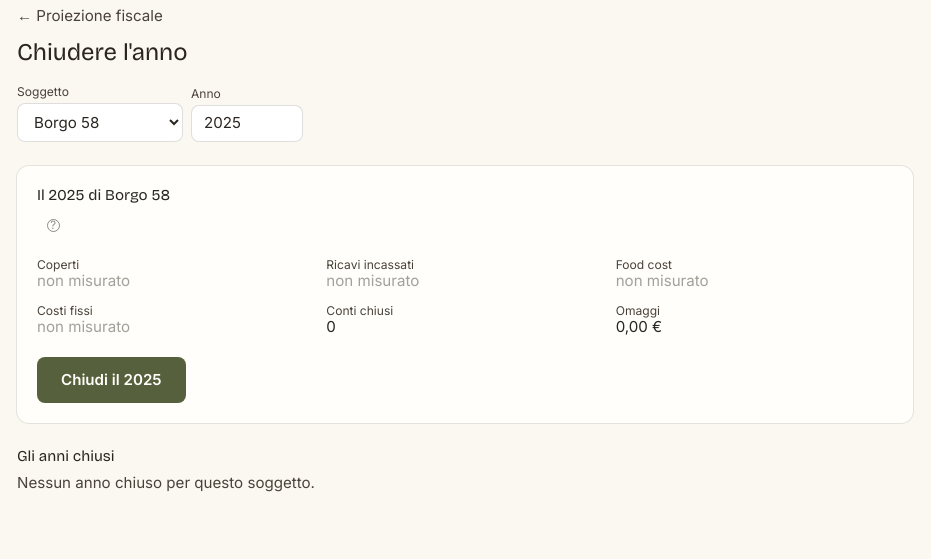
it: il rifiuto del database si vede › ⚠️ e non sparisce dietro un successo finto
This screenshot has width=931, height=559.
Expected: the element showing "non misurato" below "Ricavi incassati" is shown, [326,271,419,290]
Click the button "Chiudi il 2025".
click(111, 380)  # box [37,357,186,403]
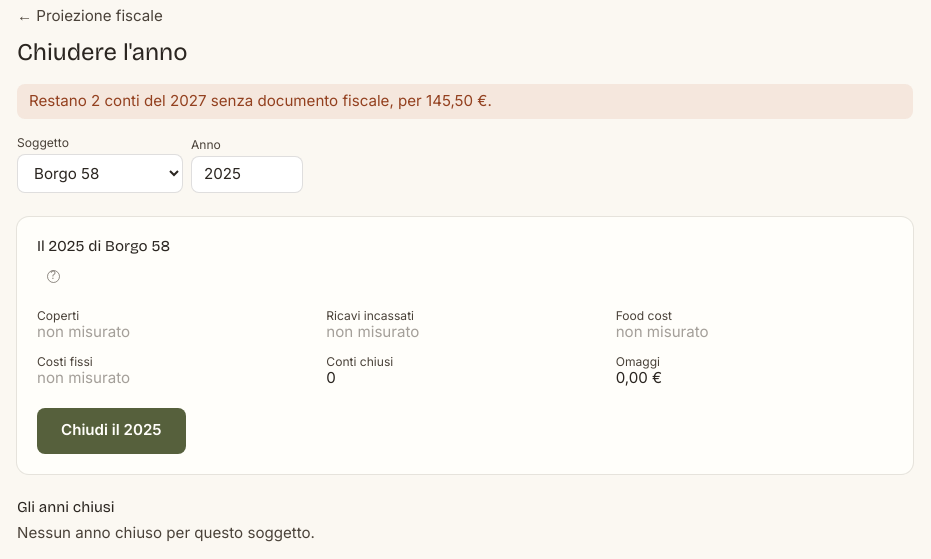
Expected: the text "2 conti" is shown, [29,91,492,110]
